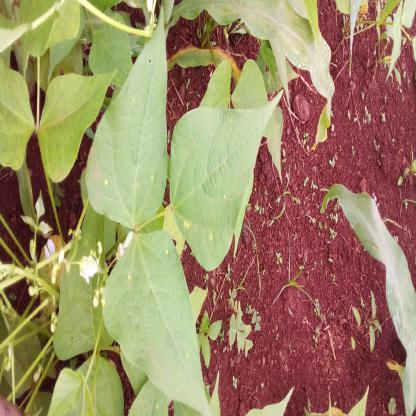Beans_Rust: (167, 90, 280, 265), (104, 232, 209, 407), (84, 8, 167, 229)
